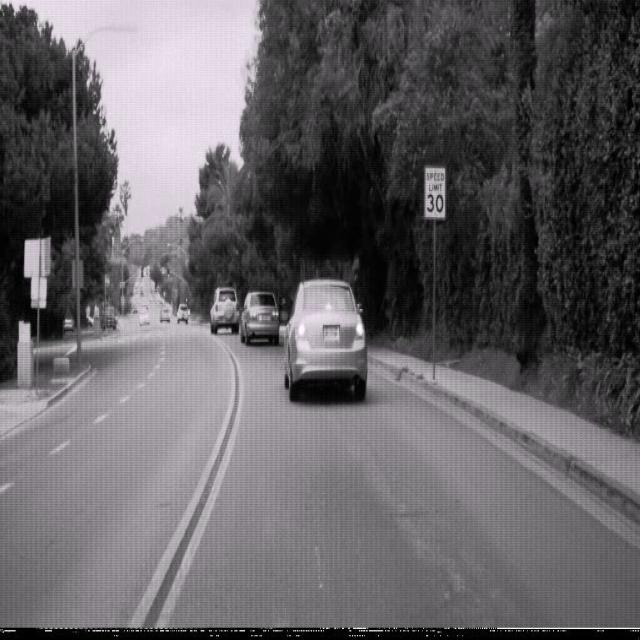speedLimit30: (424, 164, 446, 220)
